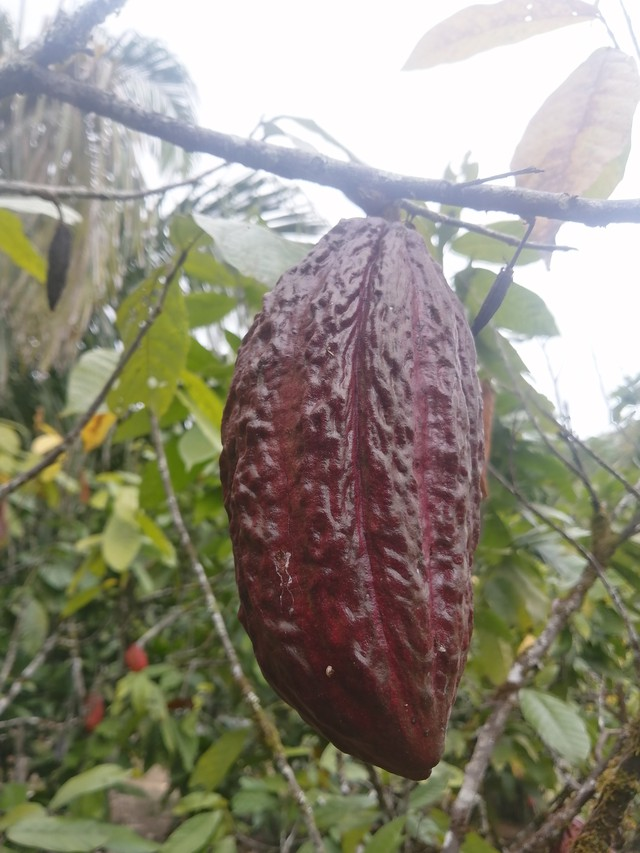Health: (209, 204, 498, 790)
